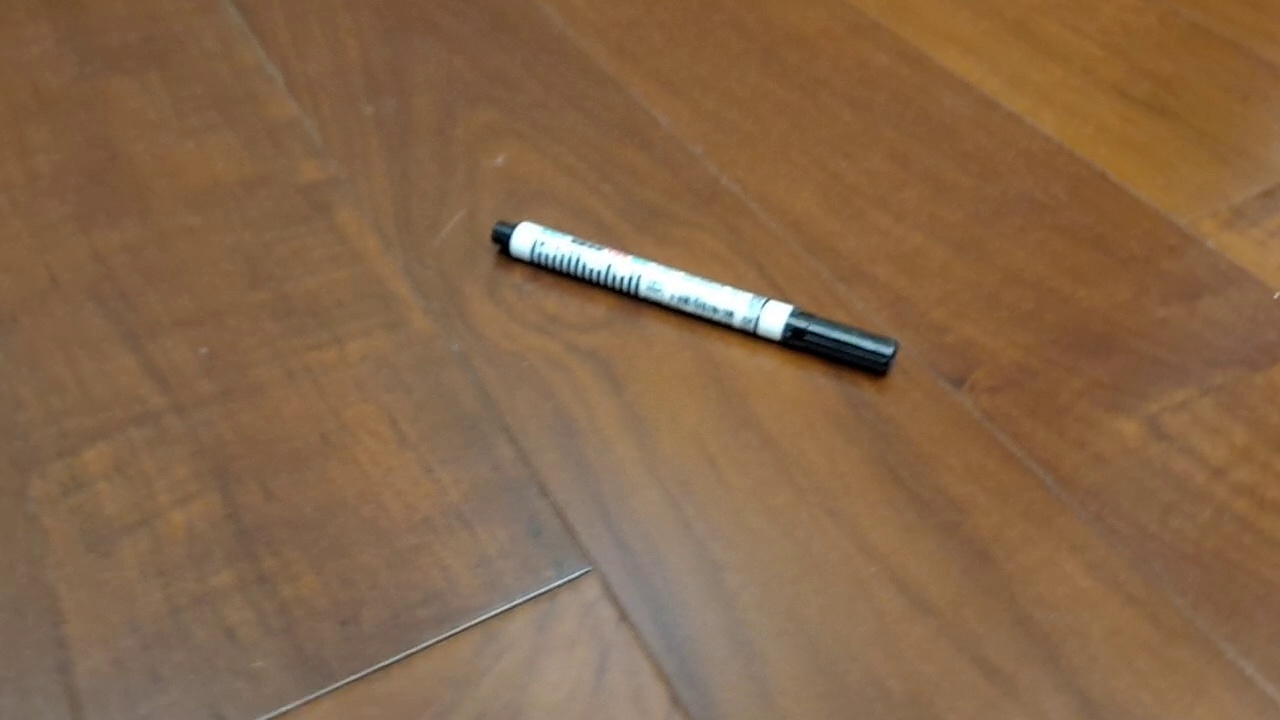pen: (490, 219, 900, 381)
